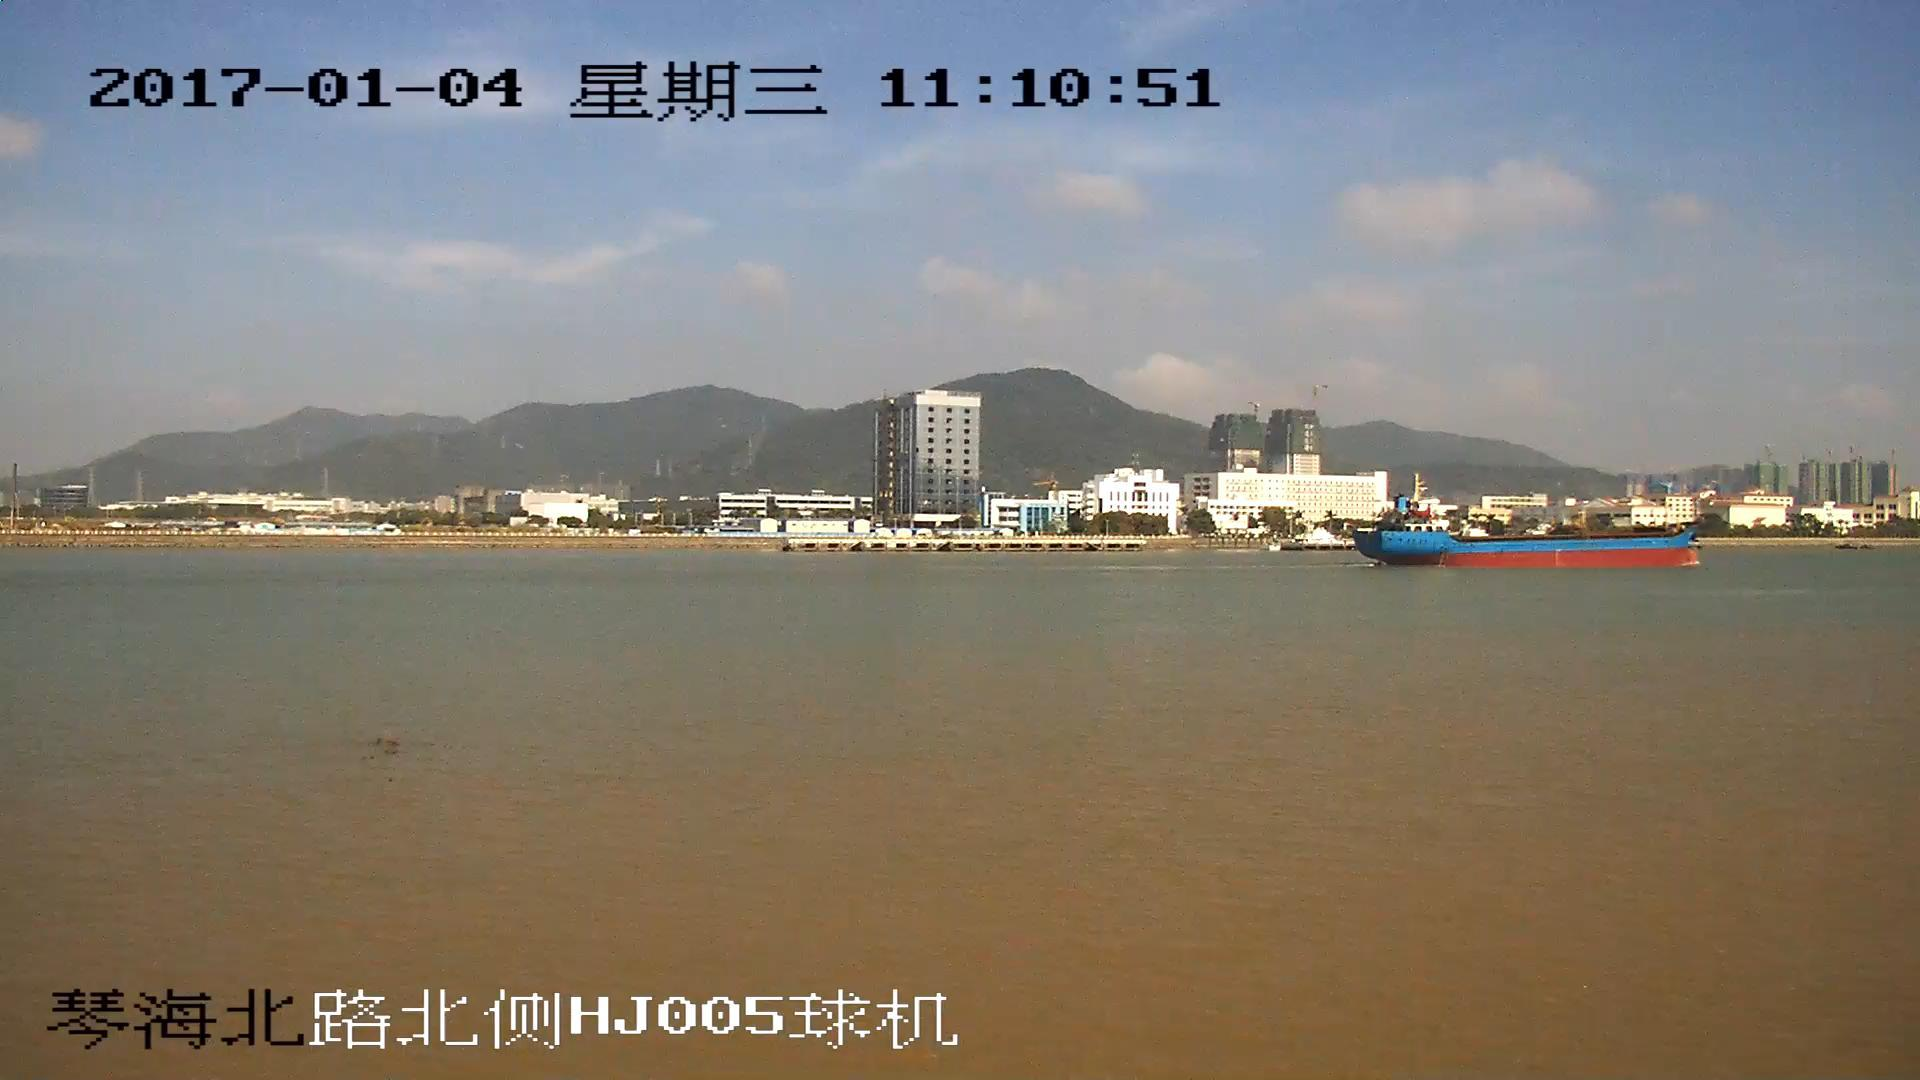Ship: (1361, 489, 1705, 571)
